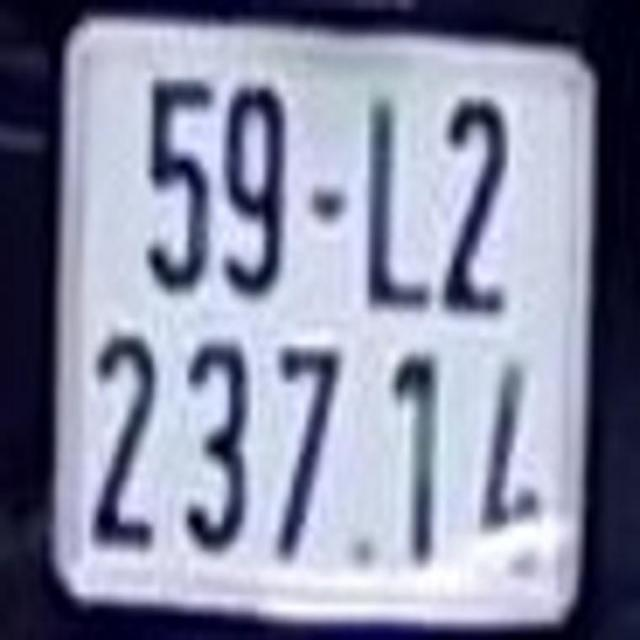1: (392, 353, 452, 576)
2: (92, 335, 159, 552), (449, 100, 507, 311)
3: (185, 342, 250, 556)
4: (486, 348, 551, 582)
5: (149, 74, 209, 288)
7: (270, 345, 347, 561)
9: (224, 82, 284, 289)
L: (364, 95, 431, 307)
